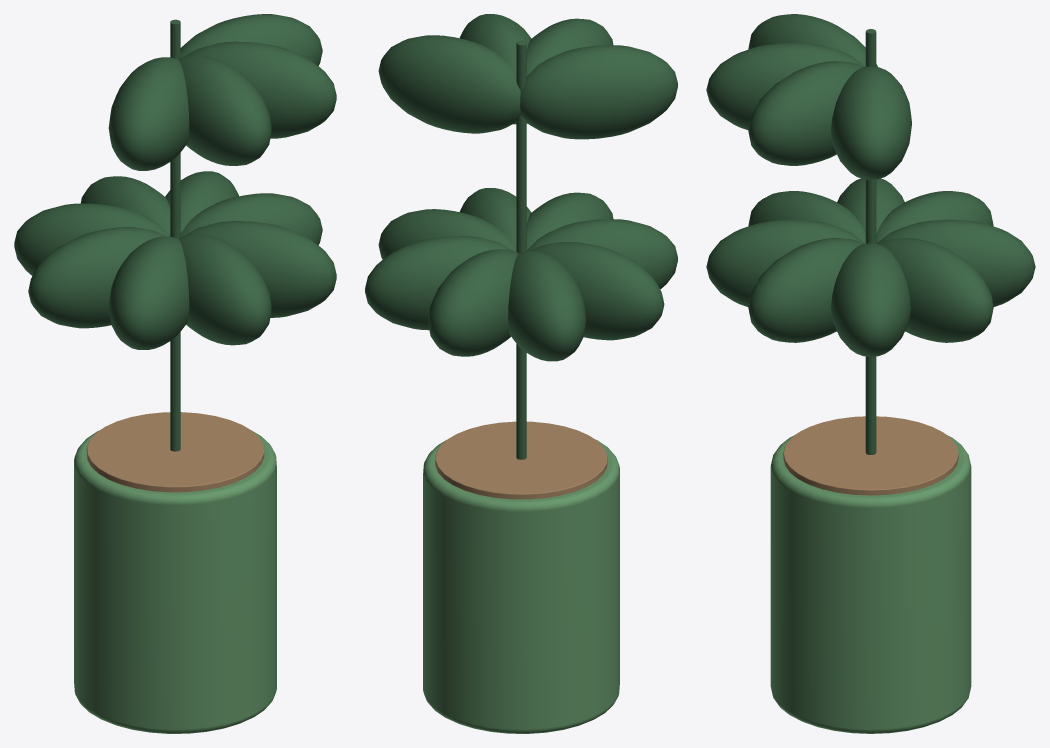
3 renders of one model, left to right at view 1: azimuth 30°, elevation 25°; view 2: azimuth 150°, elevation 25°; view 3: azimuth 270°, elevation 25°, orthographic. The views are drawn at different scales.
Parts seen in each view (by area): view 1: pot, soil, leaf_4, leaf_10, leaf_2, leaf_11, leaf_3, leaf_9, leaf_1, leaf_5, leaf_8, leaf_0 (+3 smaller); view 2: pot, leaf_11, leaf_8, soil, leaf_4, leaf_6, leaf_5, leaf_7, leaf_3, leaf_0, stem, leaf_10 (+3 smaller); view 3: pot, soil, leaf_9, leaf_1, leaf_7, leaf_8, leaf_0, leaf_2, leaf_6, leaf_10, leaf_11, leaf_3 (+3 smaller).
Boxes of the visible parts, left/top/right/bottom form: pot: left=74, top=431, right=276, bottom=733; soil: left=86, top=412, right=264, bottom=492; leaf_4: left=28, top=227, right=165, bottom=328; leaf_10: left=178, top=55, right=271, bottom=165; leaf_2: left=178, top=234, right=271, bottom=345; leaf_11: left=108, top=57, right=189, bottom=170; leaf_3: left=108, top=236, right=189, bottom=349; leaf_9: left=185, top=41, right=336, bottom=138; leaf_1: left=185, top=221, right=336, bottom=317; leaf_5: left=14, top=203, right=170, bottom=275; leaf_8: left=180, top=14, right=322, bottom=65; leaf_0: left=180, top=193, right=322, bottom=245; pot: left=423, top=439, right=619, bottom=733; leaf_11: left=520, top=45, right=677, bottom=139; leaf_8: left=378, top=35, right=520, bottom=133; soil: left=435, top=421, right=607, bottom=499; leaf_4: left=530, top=242, right=664, bottom=340; leaf_6: left=428, top=249, right=518, bottom=356; leaf_5: left=508, top=251, right=586, bottom=361; leaf_7: left=365, top=236, right=511, bottom=330; leaf_3: left=526, top=219, right=677, bottom=288; leaf_0: left=378, top=209, right=516, bottom=259; stem: left=516, top=40, right=526, bottom=459; leaf_10: left=526, top=18, right=613, bottom=123; pot: left=770, top=434, right=971, bottom=733; soil: left=783, top=416, right=958, bottom=495; leaf_9: left=748, top=61, right=863, bottom=165; leaf_1: left=748, top=238, right=863, bottom=342; leaf_7: left=878, top=238, right=993, bottom=342; leaf_8: left=831, top=66, right=911, bottom=180; leaf_0: left=831, top=243, right=910, bottom=356; leaf_2: left=706, top=219, right=865, bottom=306; leaf_6: left=876, top=219, right=1035, bottom=306; leaf_10: left=706, top=42, right=865, bottom=129; leaf_11: left=748, top=14, right=877, bottom=66; leaf_3: left=748, top=191, right=865, bottom=243.
Bounding box in the file's own units: 0.45 × 1 × 0.45.
